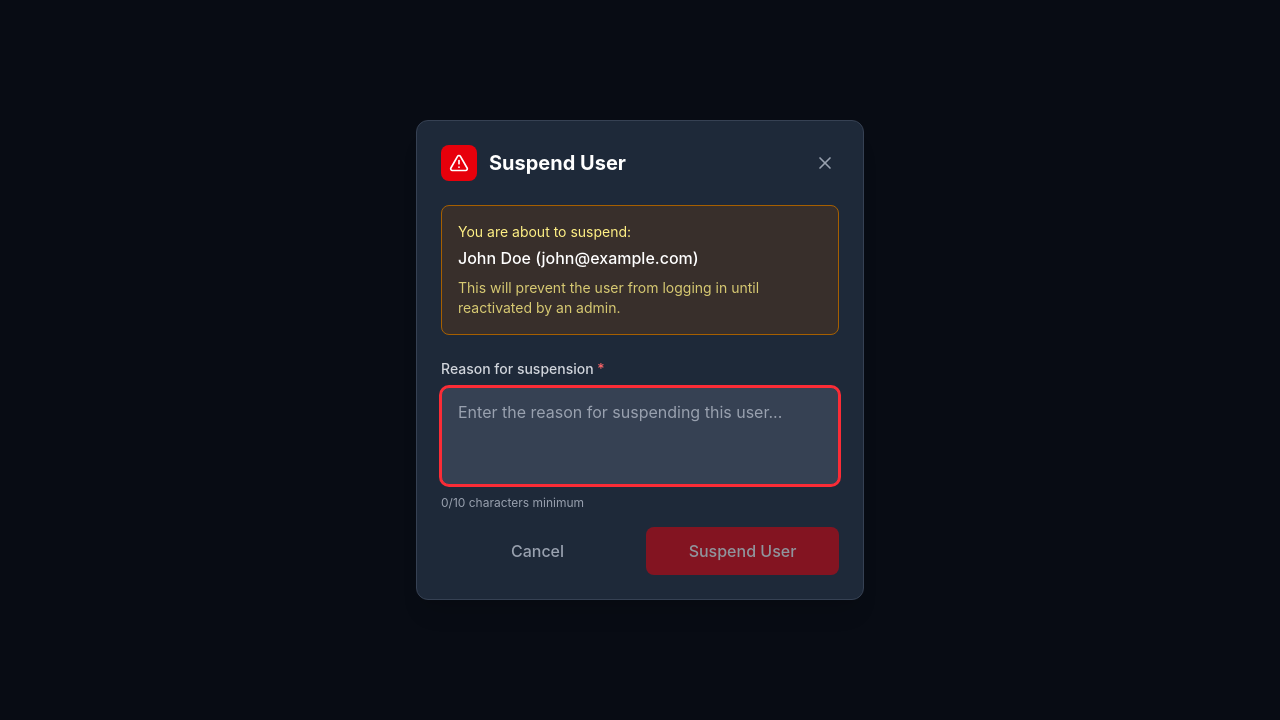
Test: SuspendUserModal › form validation › should show error when submitting with reason too short
Step 1. Type "Short" into the text box with placeholder "Enter the reason for suspending this user..." → (640, 436), box [441,387,839,485]
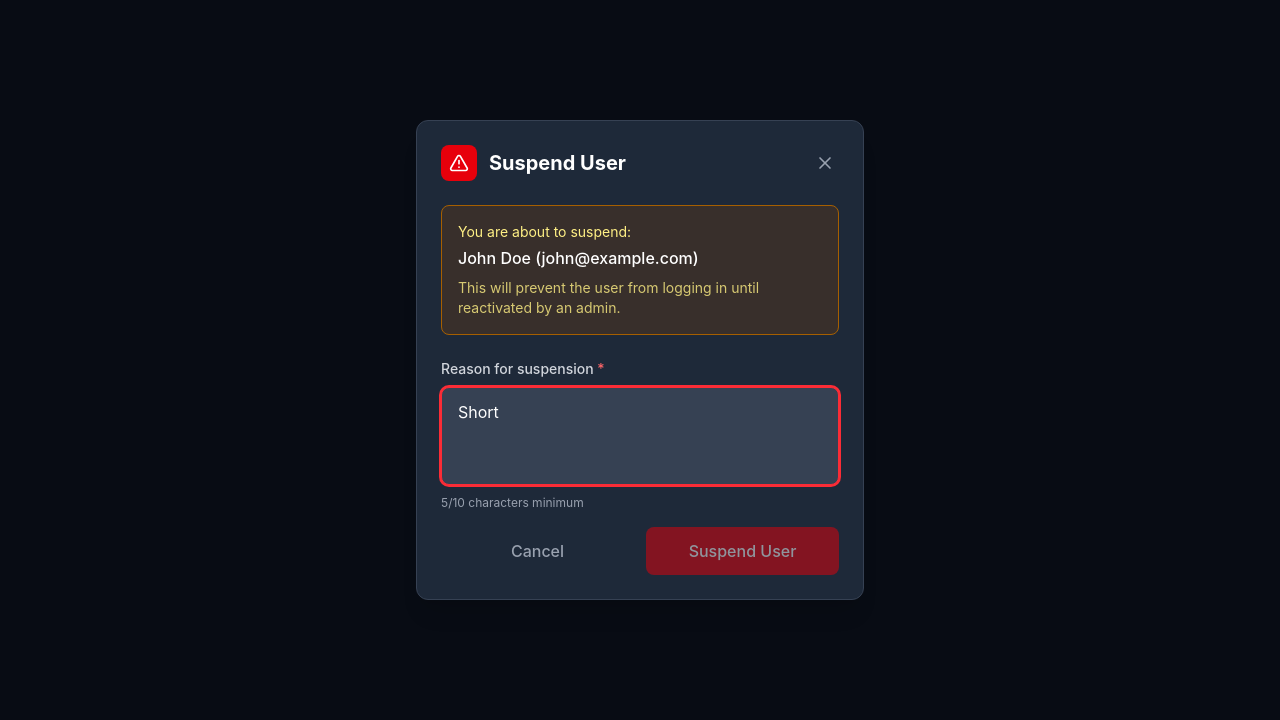
Step 2. Submit the form with placeholder "Enter the reason for suspending this user...", box [441,359,839,575]
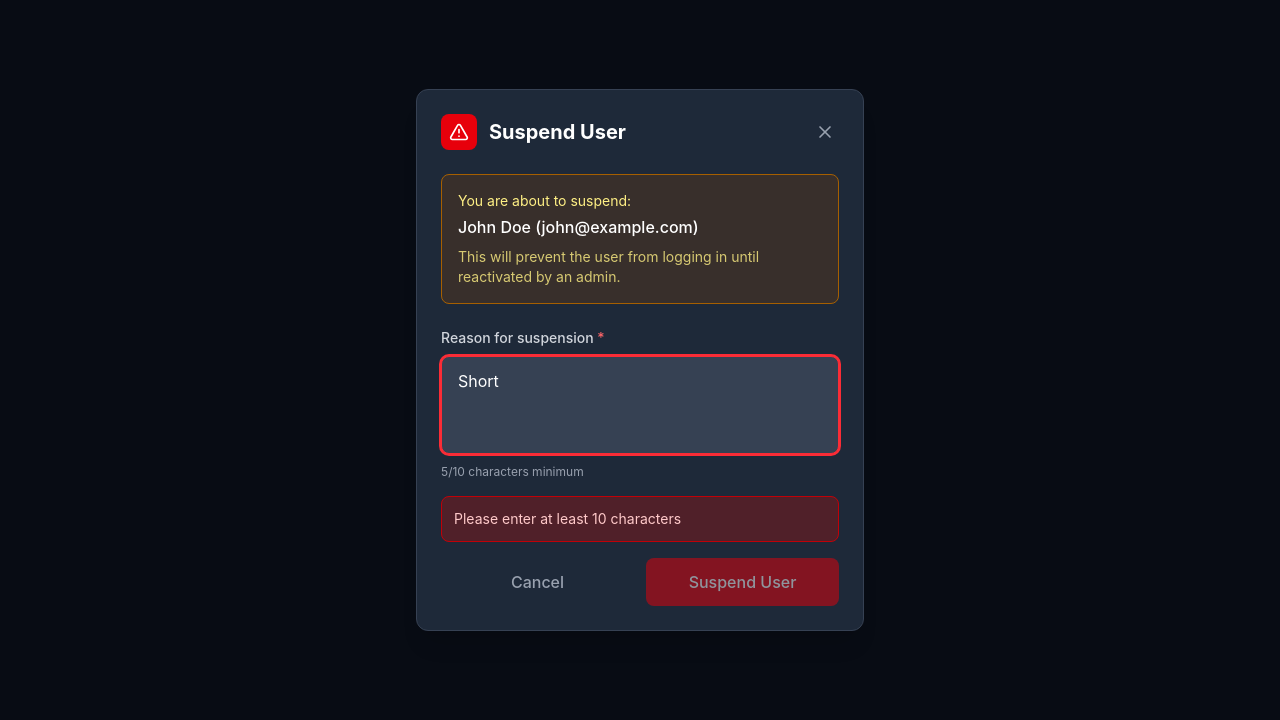
Result: the text "Please enter at least 10 characters" is shown at [454,510,681,527]
